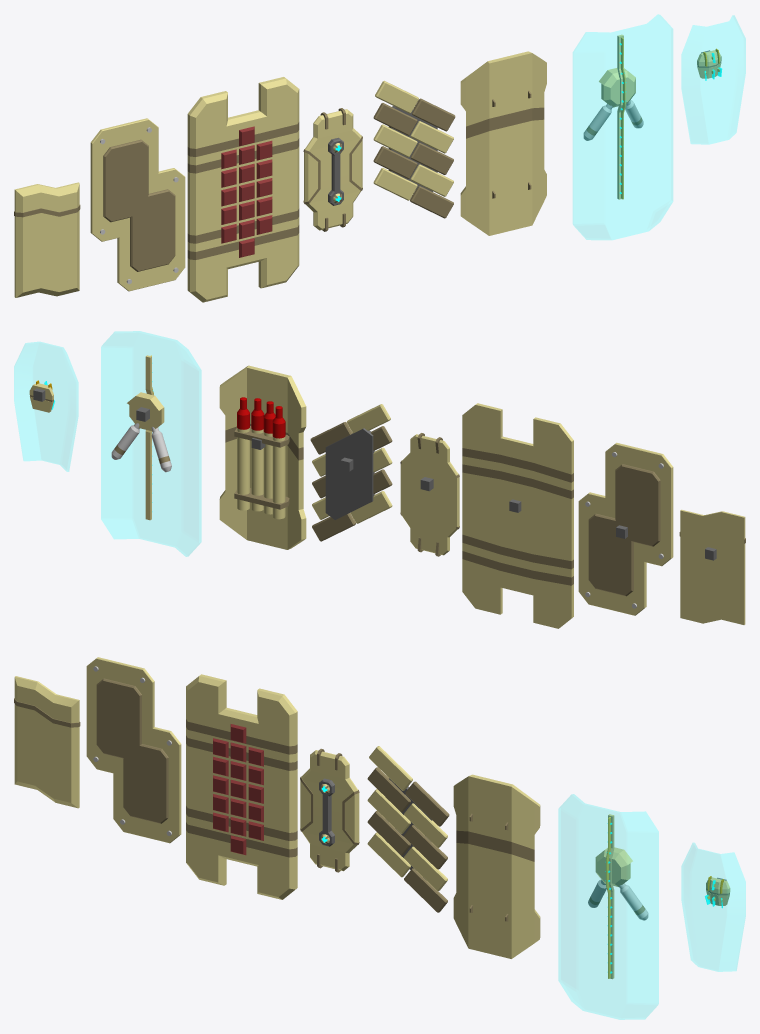
The model's file is MainShield.fbx.
The picture shows the model from 3 angles, top to bottom: view 1: azimuth 30°, elevation 25°; view 2: azimuth 150°, elevation 25°; view 3: azimuth 330°, elevation 25°; orthographic projection.
Visible parts, largest first — view 1: pCube71, pCube14, pPlane1, pCube11, pPlane2, pCube33, pCube7, pCube5, pCube6, pCube8, pCube76, pCube55 (+13 smaller); view 2: pCube14, pCube71, pPlane1, pCube11, pPlane2, pCube33, pCube7, pCube60, pCube6, pCube8, pCube5, pCylinder10 (+10 smaller); view 3: pCube71, pCube14, pPlane1, pCube11, pPlane2, pCube33, pCube5, pCube6, pCube8, pCube7, pCube76, pCube52 (+11 smaller).
Part boxes in pixels (box(x1,y1,x2,y2)): pCube71: box(573, 14, 672, 239); pCube14: box(187, 77, 299, 302); pPlane1: box(460, 51, 546, 235); pCube11: box(14, 182, 80, 297); pPlane2: box(681, 15, 745, 144); pCube33: box(303, 109, 362, 230); pCube7: box(90, 118, 158, 241); pCube5: box(117, 168, 185, 291); pCube6: box(130, 189, 175, 271); pCube8: box(103, 139, 148, 222); pCube76: box(599, 68, 635, 107); pCube55: box(373, 146, 417, 178); pCube14: box(462, 403, 573, 628); pCube71: box(101, 331, 201, 556); pPlane1: box(219, 365, 306, 549); pCube11: box(679, 509, 745, 624); pPlane2: box(14, 342, 78, 471); pCube33: box(400, 434, 459, 555); pCube7: box(605, 442, 673, 566); pCube60: box(325, 428, 374, 519); pCube6: box(588, 513, 633, 596); pCube8: box(615, 464, 660, 546); pCube5: box(578, 492, 646, 615); pCylinder10: box(272, 406, 285, 519); pCube71: box(558, 794, 658, 1019); pCube14: box(186, 674, 297, 899); pPlane1: box(453, 774, 540, 958); pCube11: box(14, 676, 80, 808); pPlane2: box(681, 843, 745, 971); pCube33: box(300, 750, 359, 871); pCube5: box(113, 726, 181, 843); pCube6: box(123, 743, 168, 823); pCube8: box(96, 678, 141, 759); pCube7: box(86, 657, 154, 775); pCube76: box(595, 847, 632, 886); pCube52: box(405, 781, 449, 826).
Bounding box in the file's own units: 82.3 × 24.68 × 4.49.
